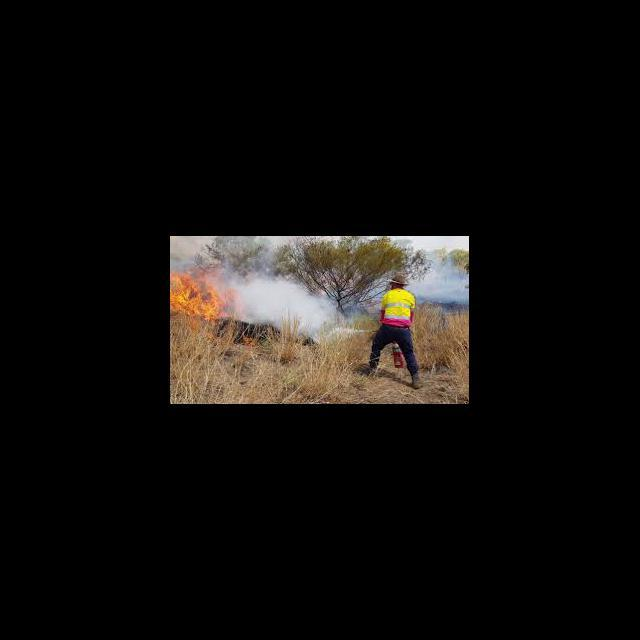Fire: (172, 270, 234, 333)
Smoke: (235, 264, 356, 340), (417, 244, 469, 306)
